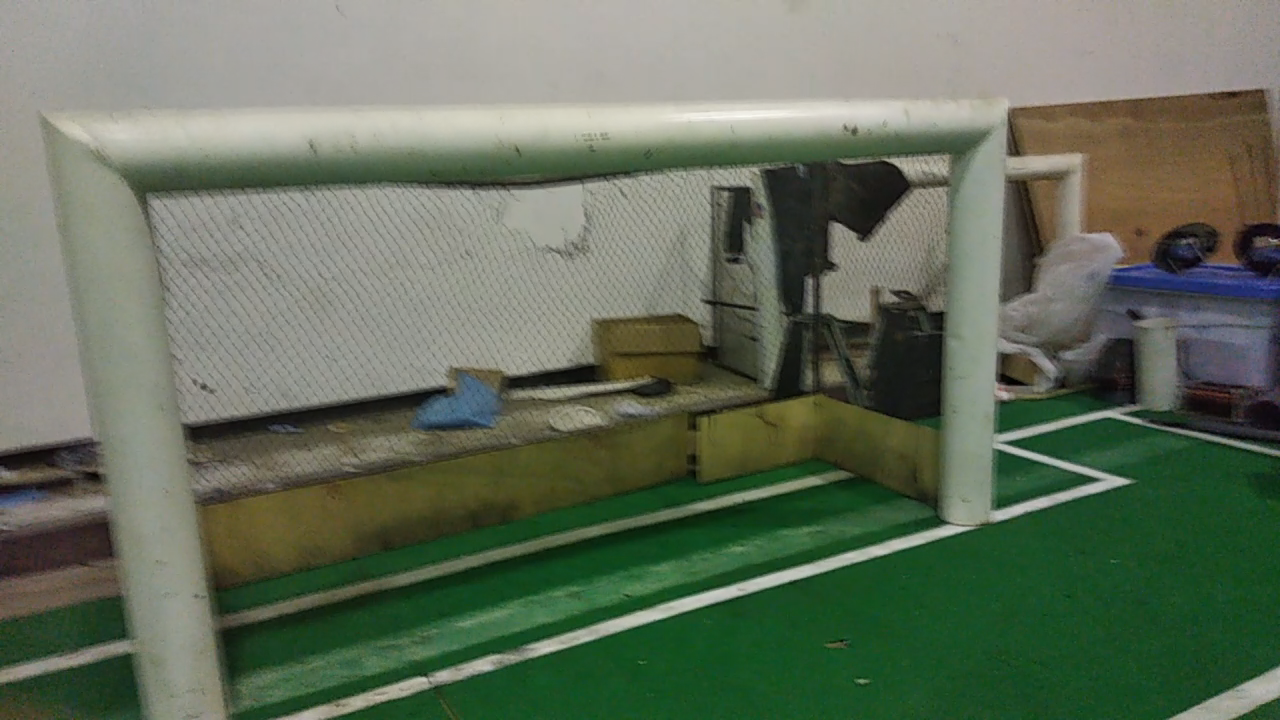gawang: (29, 72, 1021, 711)
